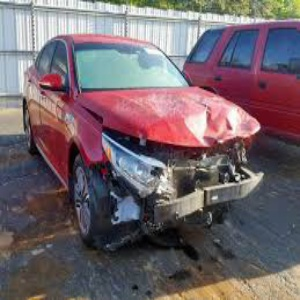bonnet: (98, 82, 260, 143)
bumper: (118, 166, 248, 241)
